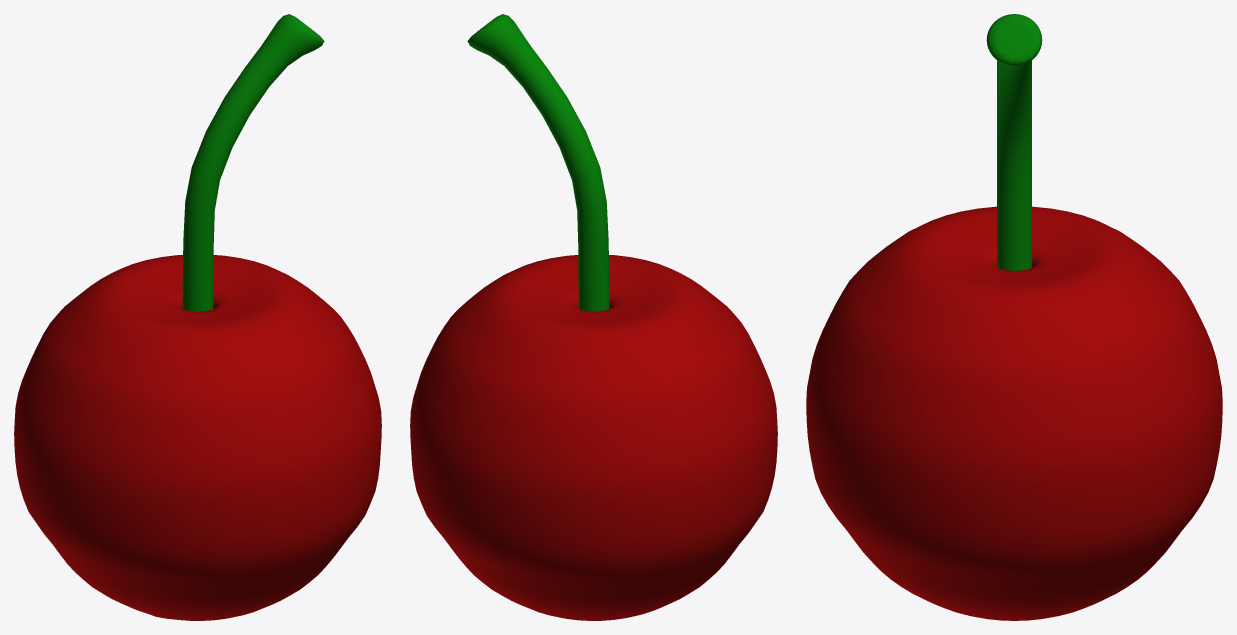
File: cherry.fbx
The picture shows the model from 3 angles, left to right: view 1: azimuth 30°, elevation 25°; view 2: azimuth 150°, elevation 25°; view 3: azimuth 270°, elevation 25°; orthographic projection. The views are drawn at different scales.
Visible parts, largest first — view 1: pSphere1; view 2: pSphere1; view 3: pSphere1.
Boxes of the visible parts, x1=… form: pSphere1: x1=14, y1=14, x2=381, y2=620; pSphere1: x1=410, y1=14, x2=777, y2=620; pSphere1: x1=806, y1=14, x2=1222, y2=620.
Size of the model in its own units: 1.98 by 3.32 by 1.98.
